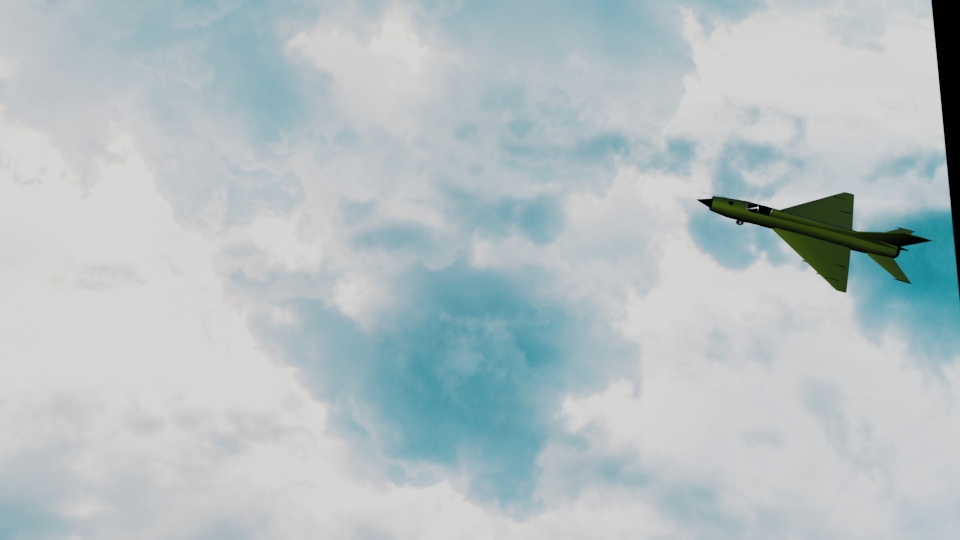plane: (693, 189, 930, 291)
